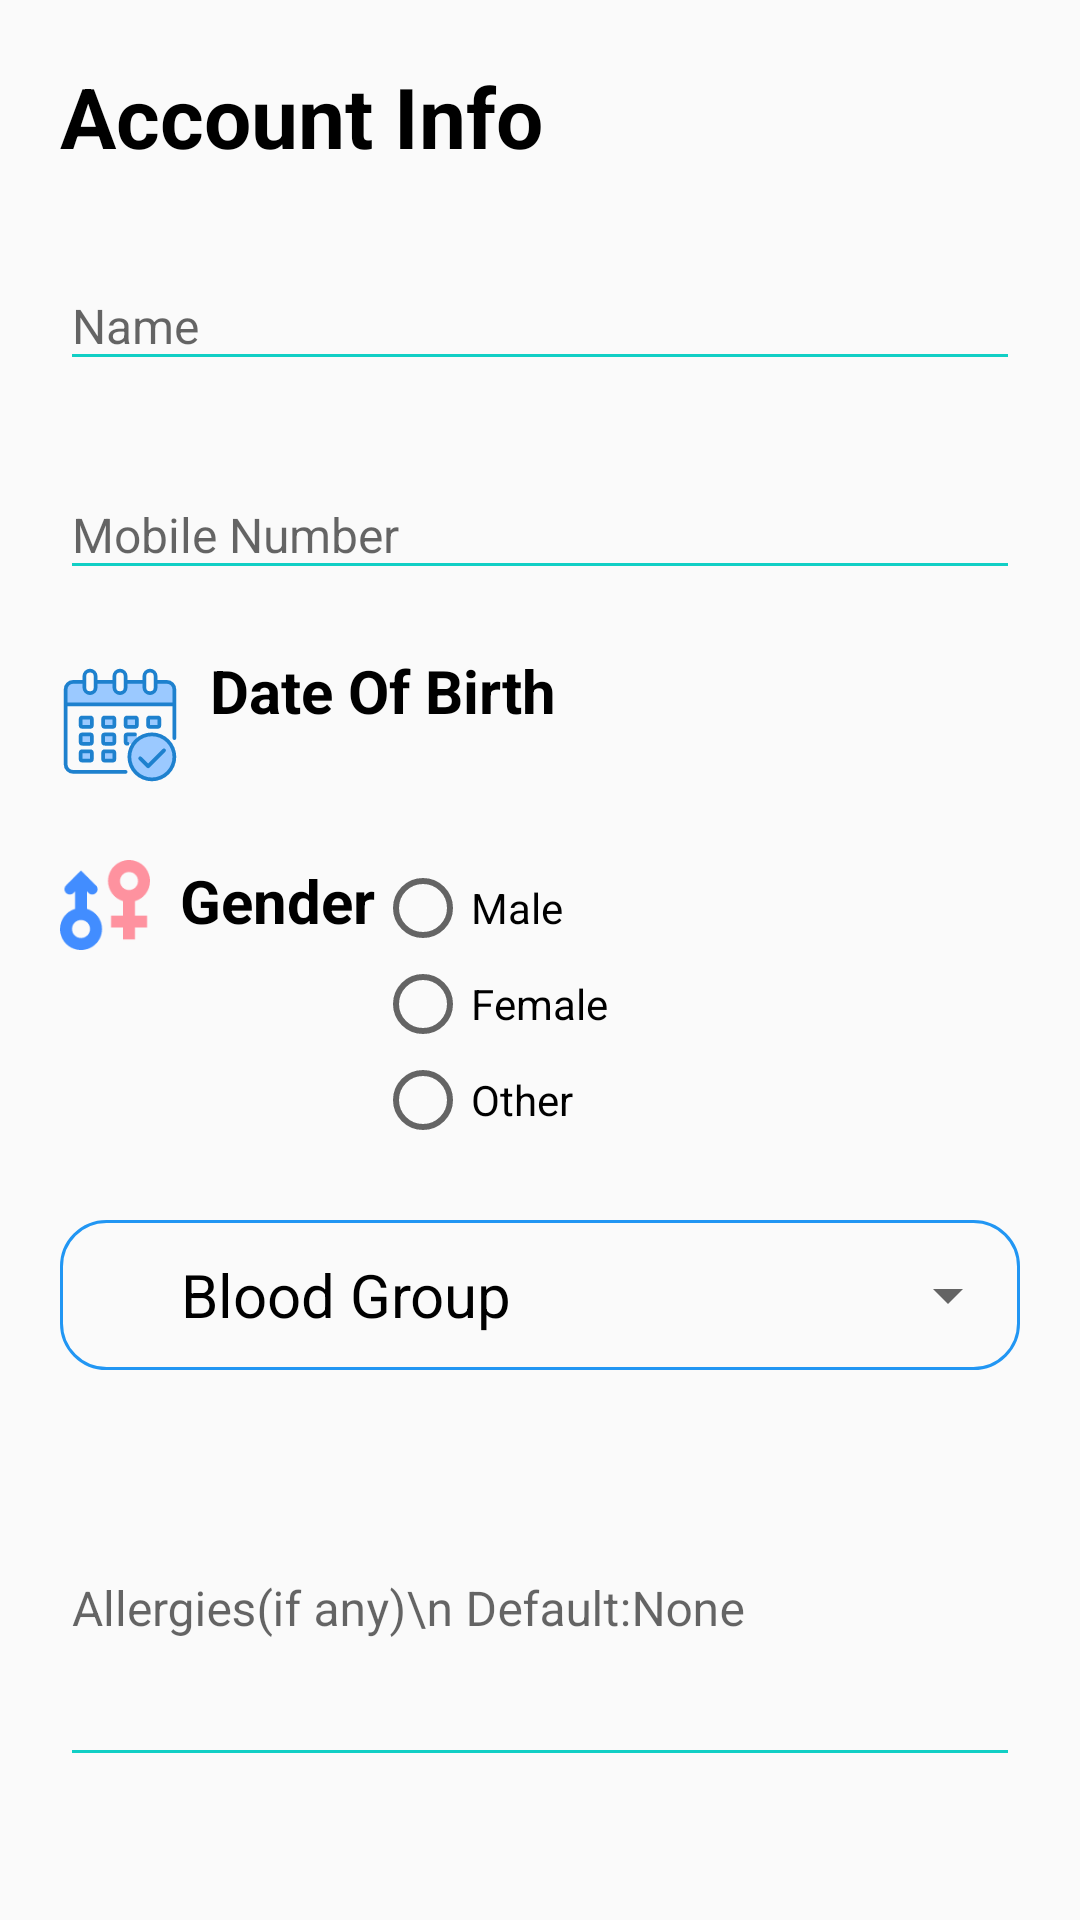

Icons on this 1080px x 1920px Android screen, each with its box as (x1, y1, x2, y2):
dob: (63, 668, 177, 782)
